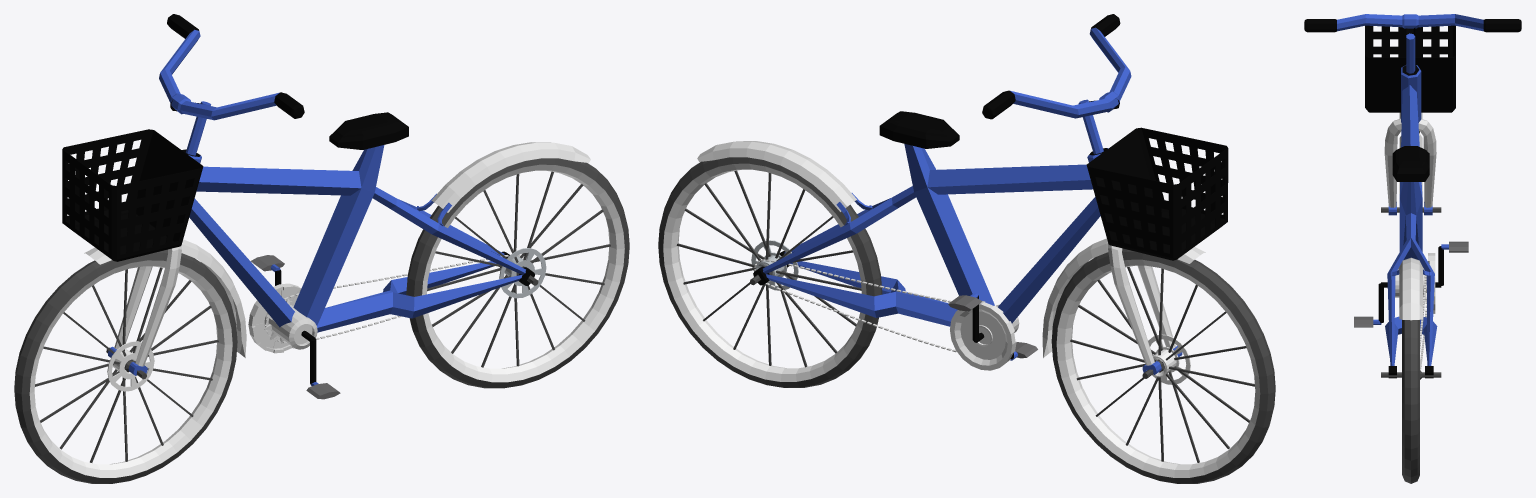
The model's file is Low poly Bicycle.fbx.
3 renders of one model, left to right at view 1: azimuth 30°, elevation 25°; view 2: azimuth 150°, elevation 25°; view 3: azimuth 270°, elevation 25°, orthographic. The views are drawn at different scales.
Parts seen in each view (by area): view 1: Total Body, Front tire, Back Tire, Cube; view 2: Total Body, Front tire, Back Tire, Cube, chain; view 3: Total Body, Cube, Back Tire, chain.
Boxes of the visible parts, box(x1,y1,x2,y2) form: Total Body: box(84, 14, 590, 399); Front tire: box(14, 249, 237, 483); Back Tire: box(406, 158, 629, 388); Cube: box(62, 129, 203, 261); Total Body: box(697, 14, 1205, 374); Front tire: box(1051, 248, 1275, 483); Back Tire: box(658, 157, 882, 387); Cube: box(1086, 127, 1228, 260); chain: box(754, 259, 956, 352); Total Body: box(1304, 14, 1521, 378); Cube: box(1365, 25, 1455, 112); Back Tire: box(1381, 320, 1441, 483); chain: box(1420, 275, 1426, 370).
Bounding box in the file's own units: 604 × 371 × 217.
